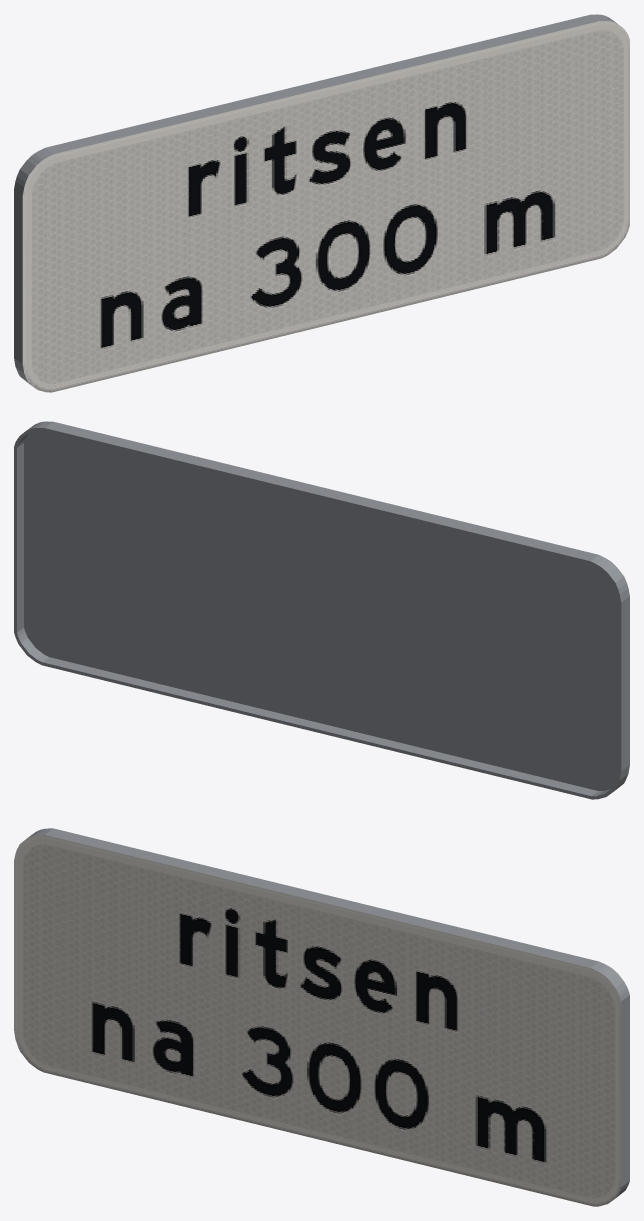
3 renders of one model, top to bottom at view 1: azimuth 30°, elevation 25°; view 2: azimuth 150°, elevation 25°; view 3: azimuth 330°, elevation 25°, orthographic.
Parts seen in each view (by area): view 1: cat_2dc047a3d91f2baa; view 2: cat_2dc047a3d91f2baa; view 3: cat_2dc047a3d91f2baa.
Part boxes in pixels (<box>): cat_2dc047a3d91f2baa: <box>14,14,629,392</box>; cat_2dc047a3d91f2baa: <box>14,421,629,799</box>; cat_2dc047a3d91f2baa: <box>14,828,629,1206</box>.
Bounding box in the file's own units: 0.6 × 0.015 × 0.2246.
Materials: 2 (1 with a texture image).
